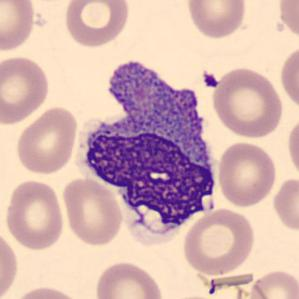Monocyte: (71, 54, 224, 249)
Platelets: (201, 70, 219, 90)
RBC: (209, 65, 285, 139), (180, 207, 258, 277), (13, 104, 80, 176), (61, 175, 124, 248), (4, 178, 66, 251), (216, 139, 278, 208), (0, 53, 51, 125), (62, 0, 131, 49), (93, 259, 166, 299), (184, 0, 248, 40), (0, 0, 37, 53), (271, 174, 298, 234), (249, 267, 298, 299), (0, 228, 20, 299), (278, 43, 298, 113), (9, 284, 86, 299), (275, 0, 298, 42), (285, 114, 299, 182)
